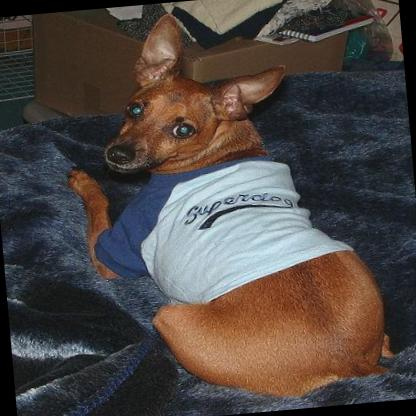miniature_pinscher: (52, 0, 398, 415)
